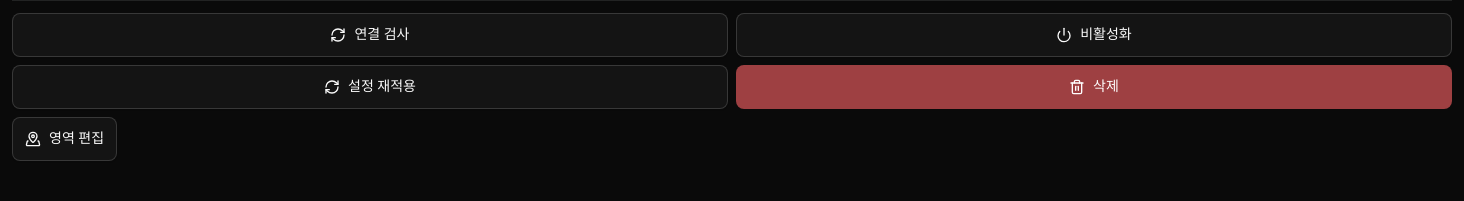
Test: CameraActions › does not report an HTTP 200 failed probe as success
Click the button "연결 검사" at (370, 35), box [12,13,728,57]
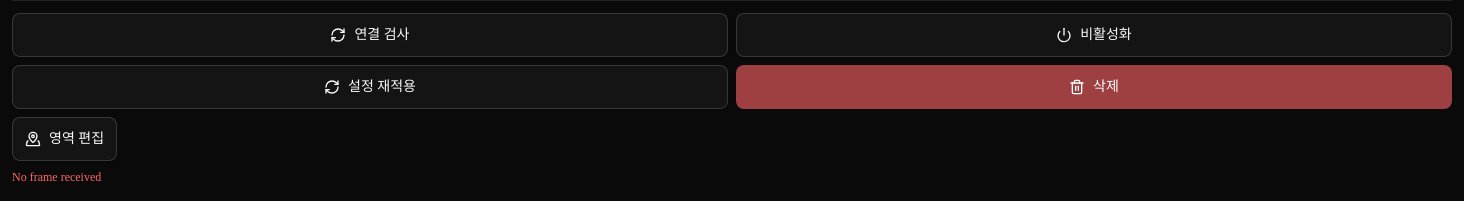
Check: the message reads "No frame received", box [12,170,101,184]
